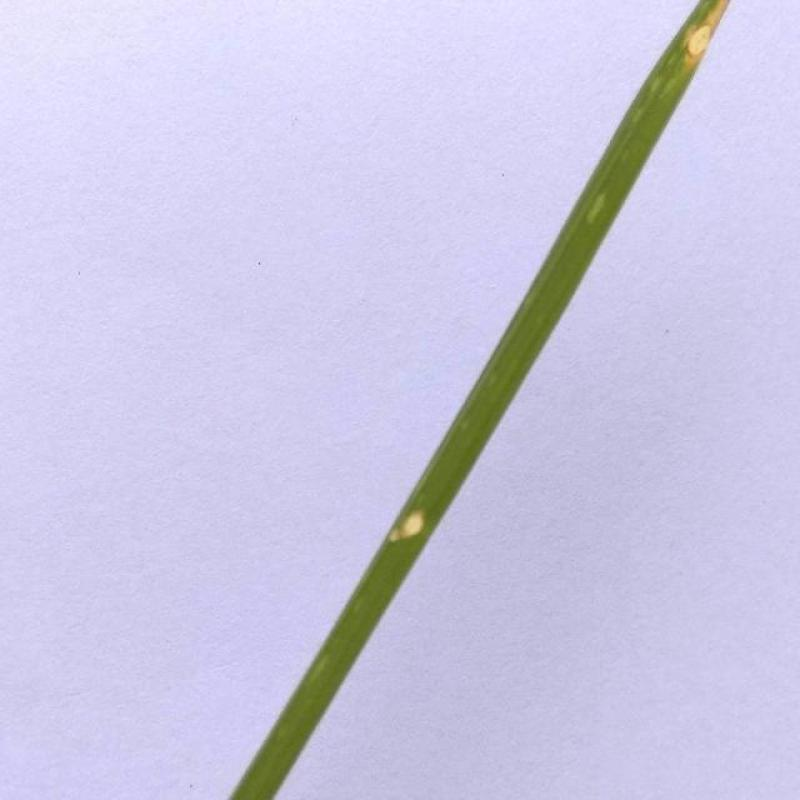Leaf_Blast: (662, 2, 766, 92), (384, 490, 436, 552)
